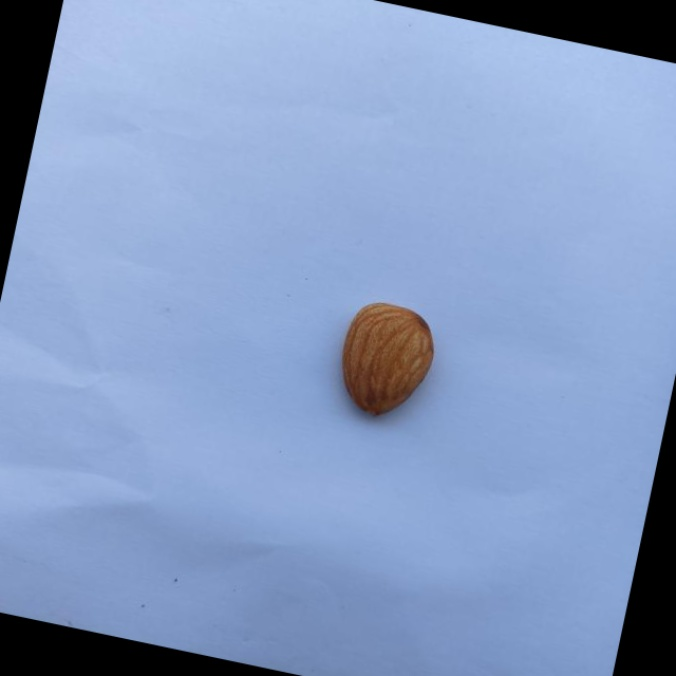grade1: (319, 287, 450, 435)
